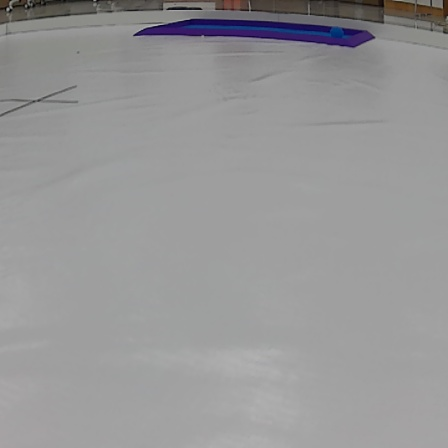blue: (331, 25, 344, 41)
blue_aim: (135, 16, 376, 56)
